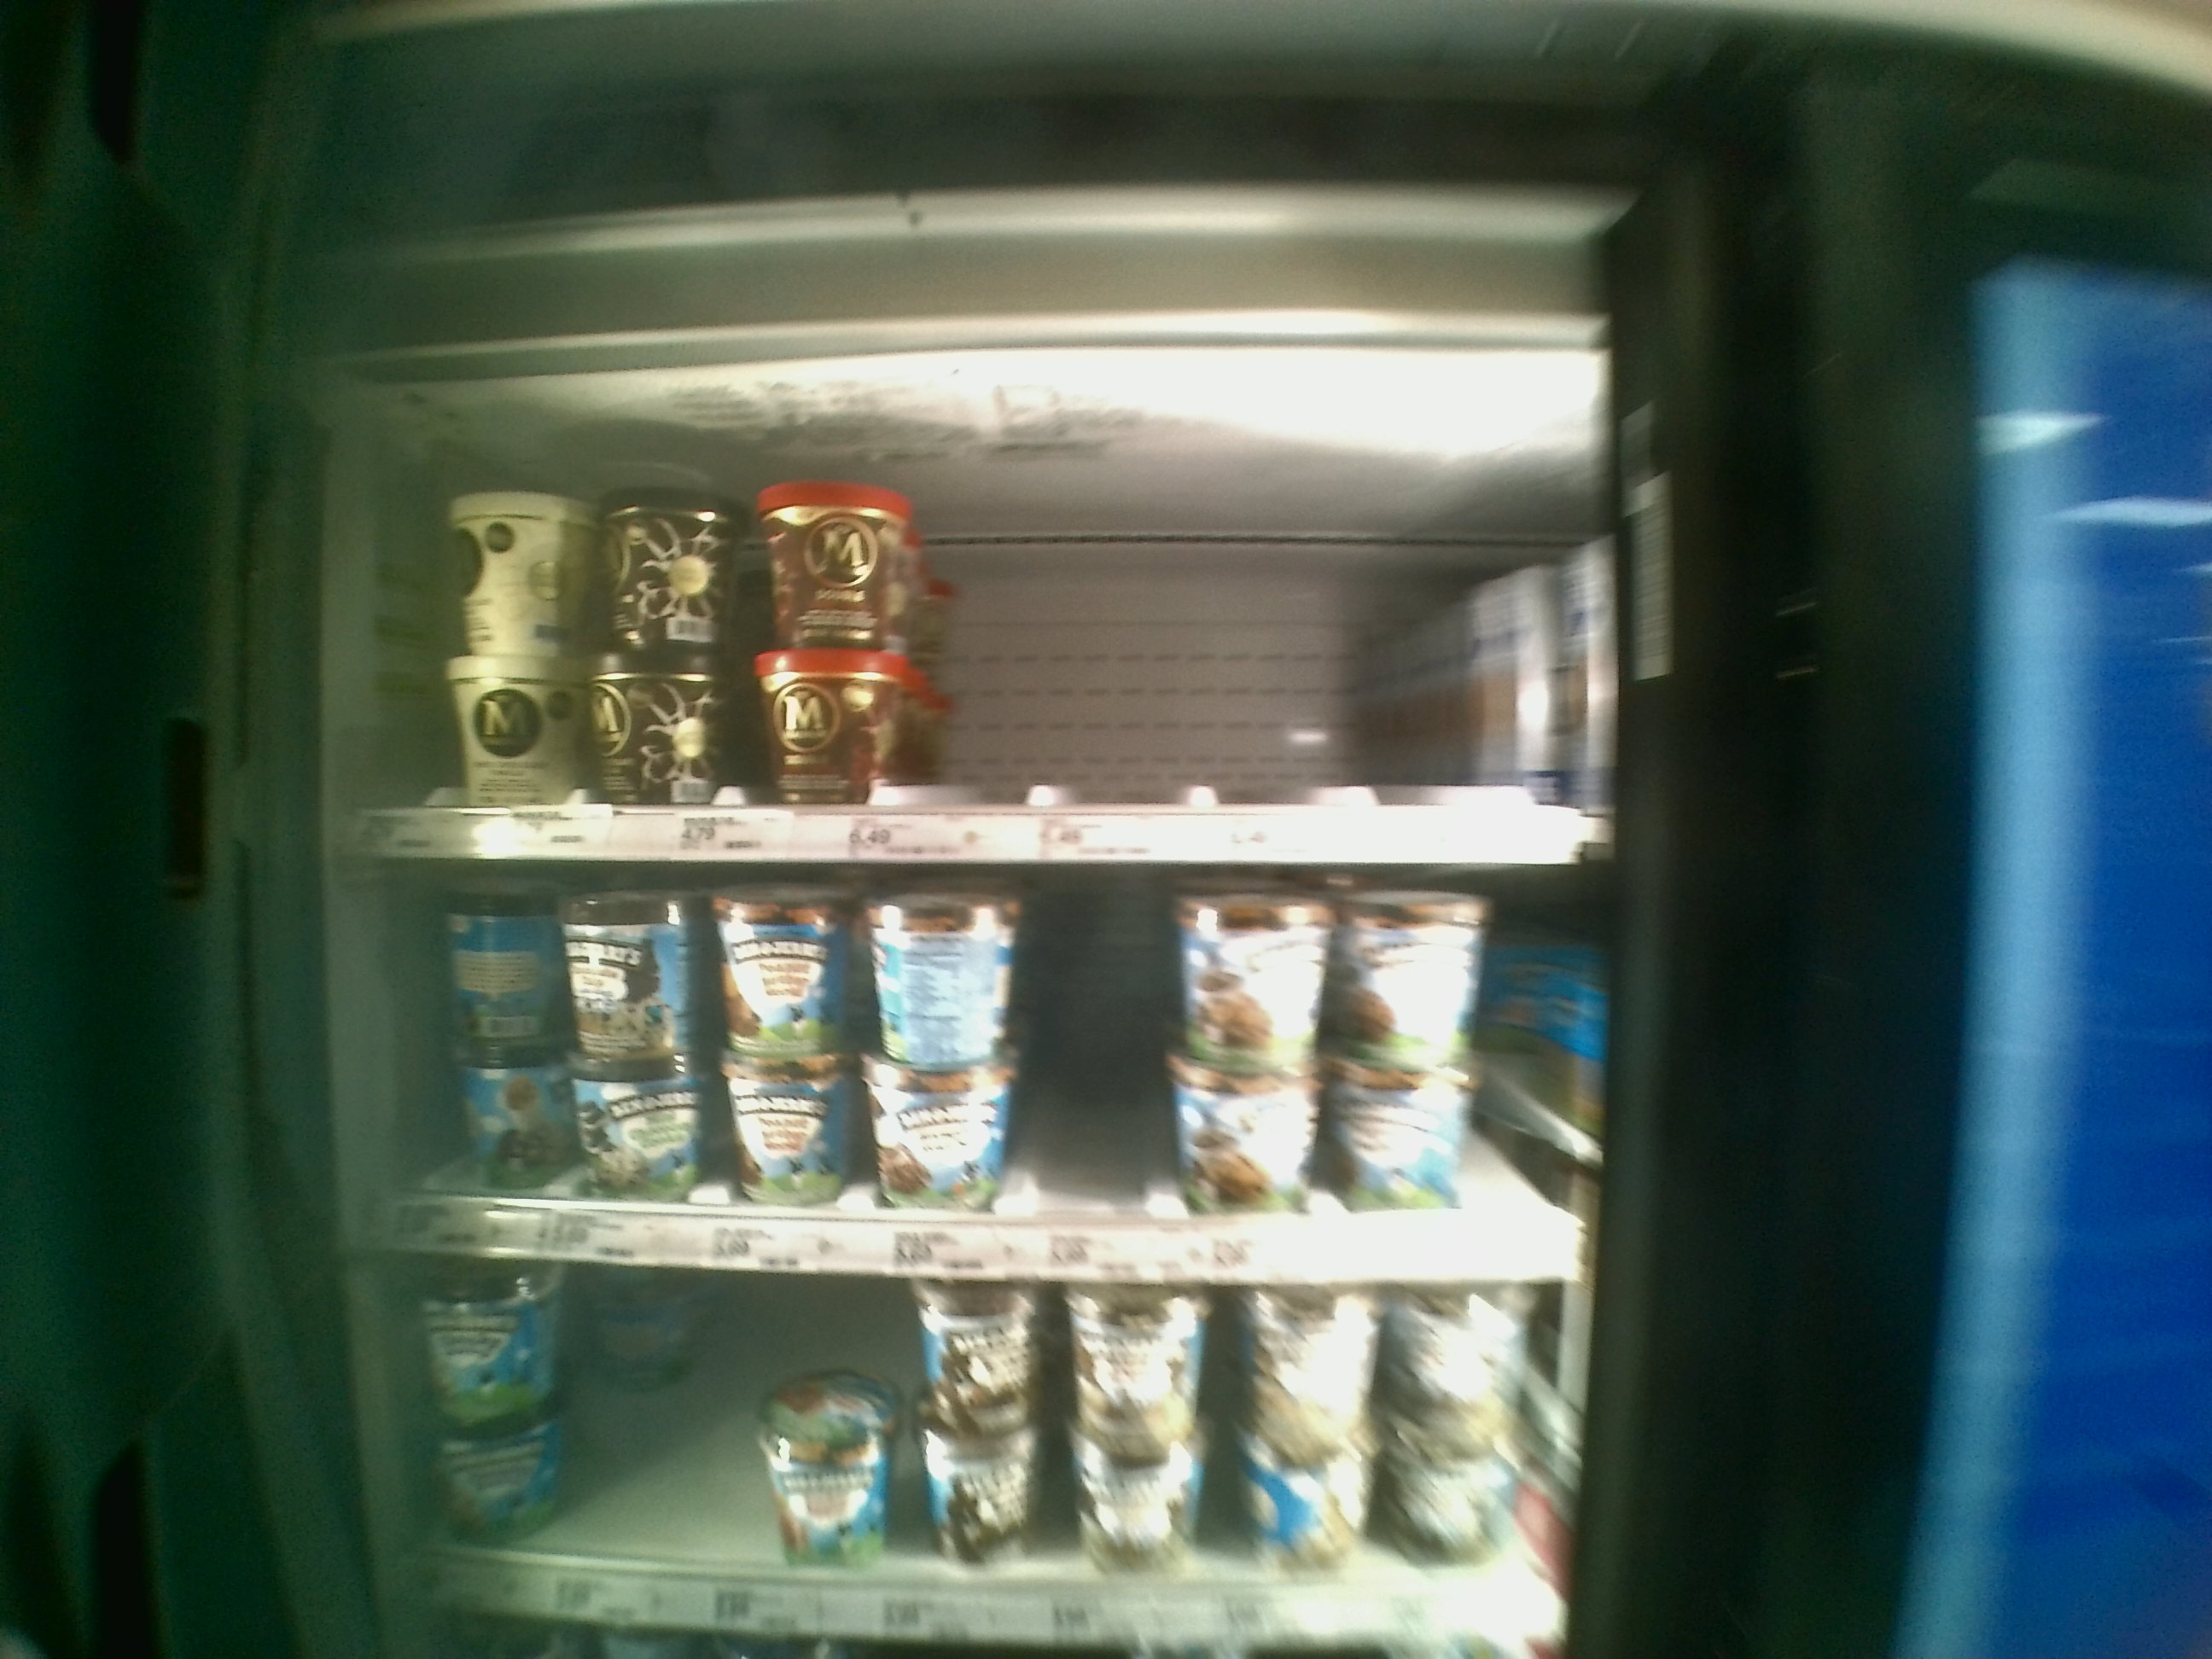ice-cream-shelf: (348, 404, 1609, 864)
